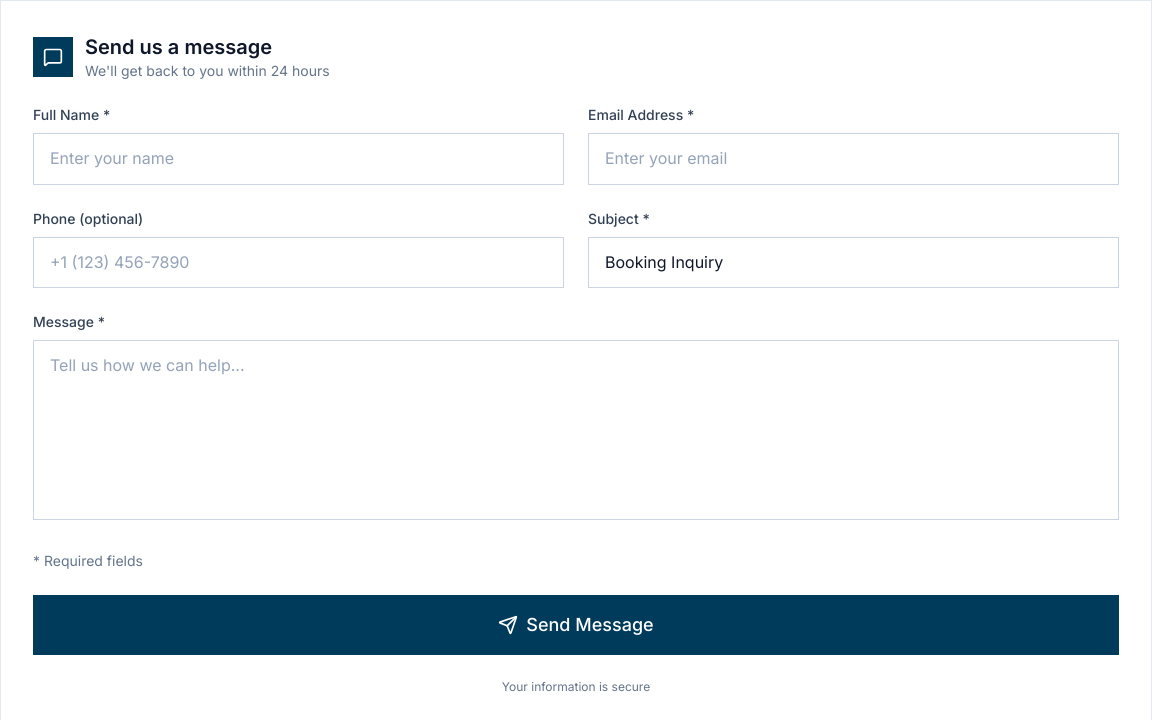
Test: ContactForm › submits form with valid data and shows success
Type "Test User" into the field with placeholder "Enter your name" at (298, 159), box [33,133,564,185]
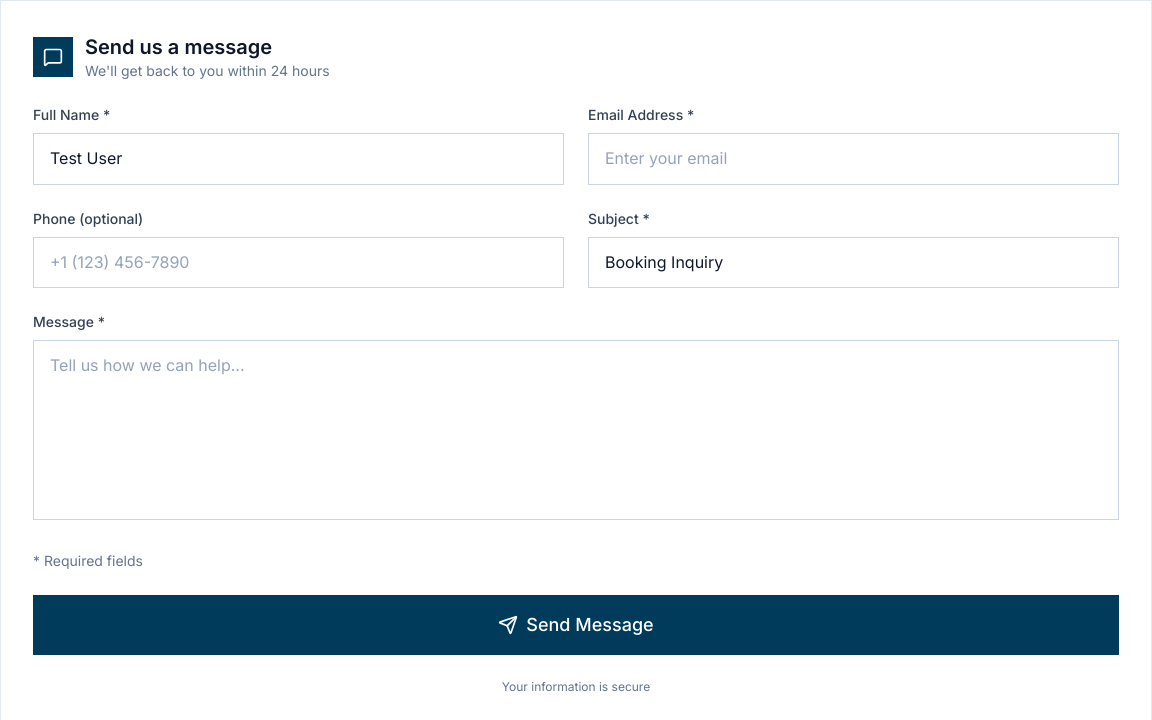
Type "test@example.com" into the field with placeholder "Enter your email" at (854, 159), box [588,133,1119,185]
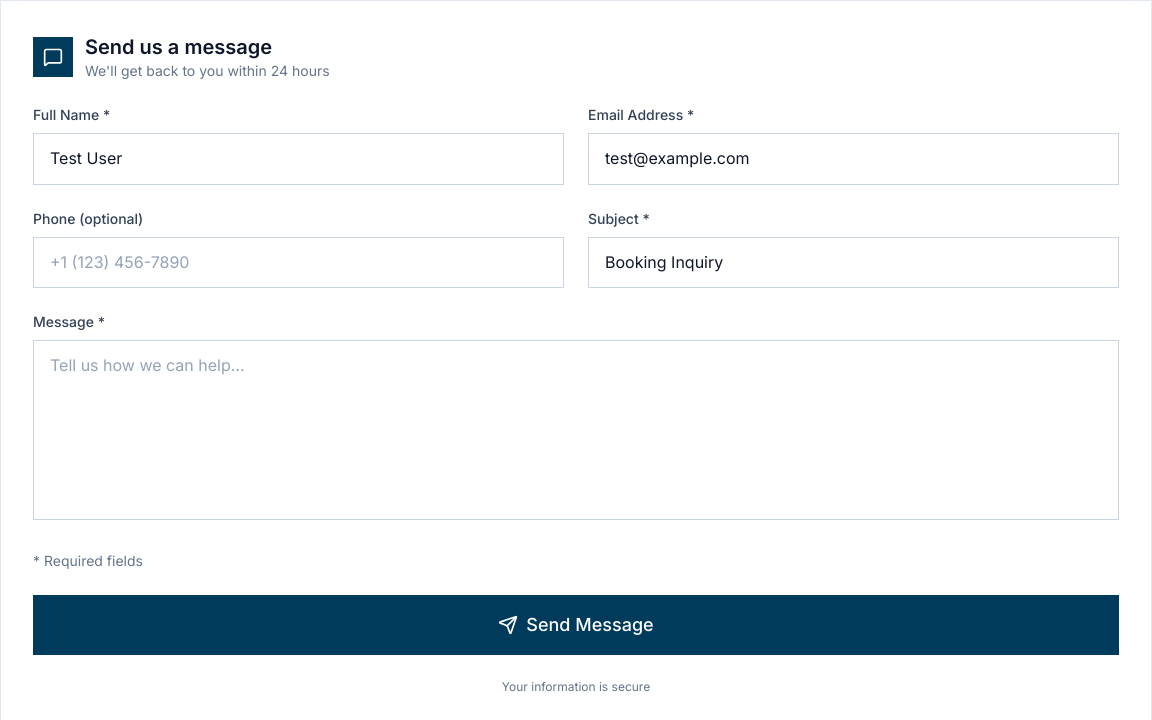
Type "This is a test message that is long enough" into the text box with placeholder "Tell us how we can help..." at (576, 430), box [33,340,1119,520]
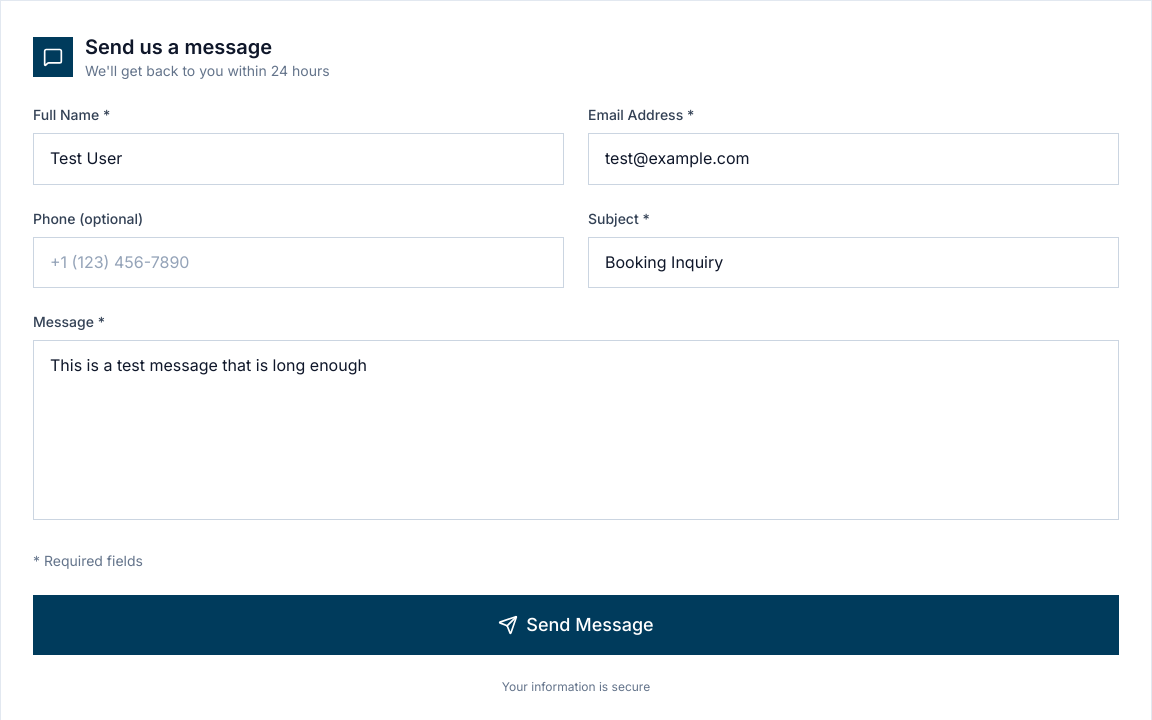
Click the button "Send Message" at (576, 625), box [33,595,1119,655]
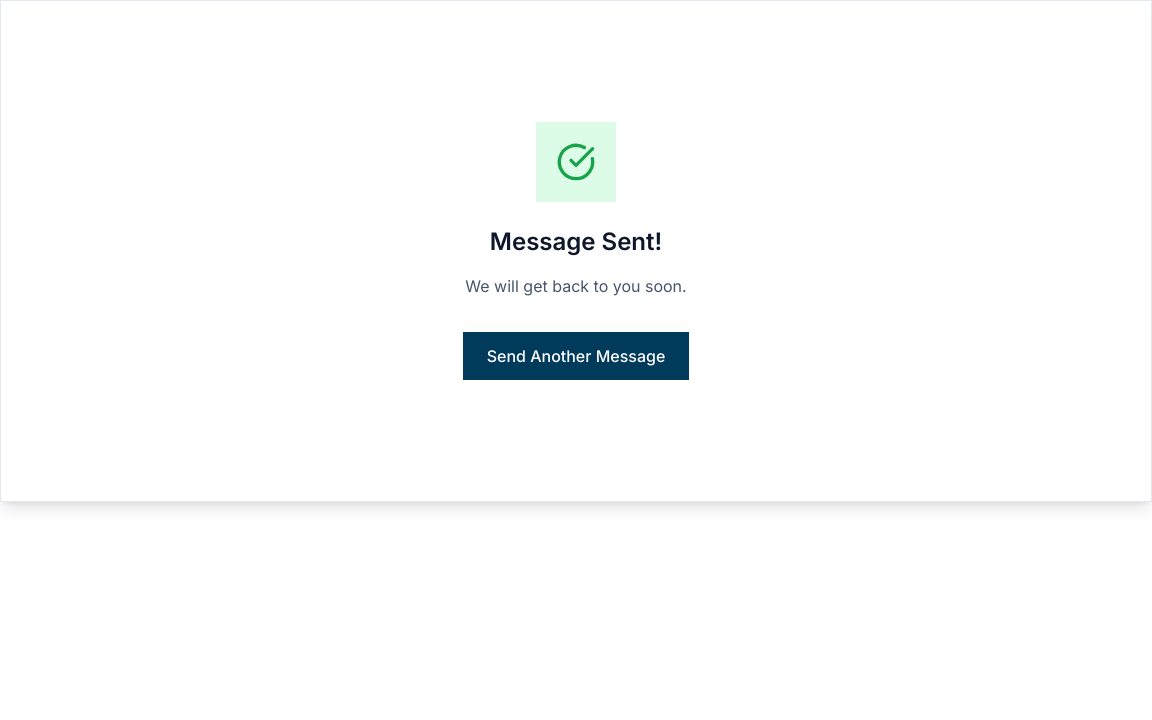
Now the heading "Message Sent!" is shown, box [490,226,662,258]
